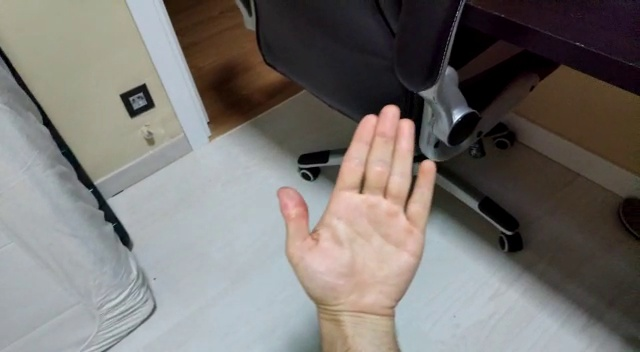Palm: (272, 102, 442, 335)
